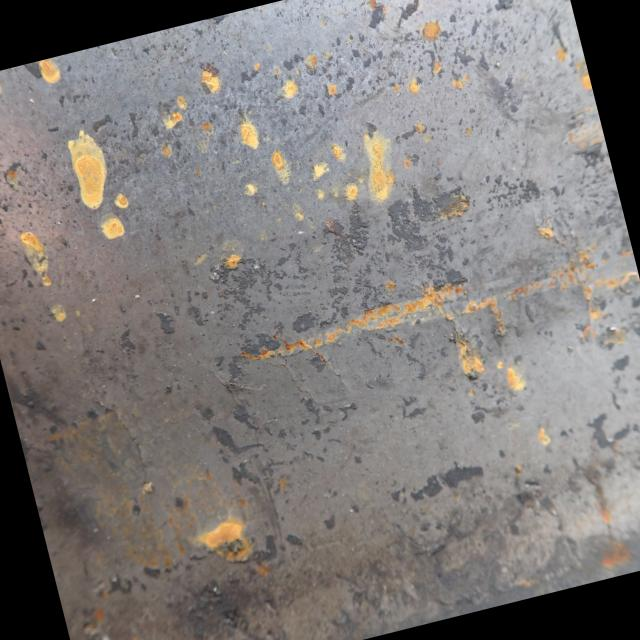Contact_Fatigue_Cracks: (93, 387, 153, 499), (432, 285, 489, 387), (216, 356, 268, 440), (307, 335, 352, 399), (275, 348, 315, 418)
